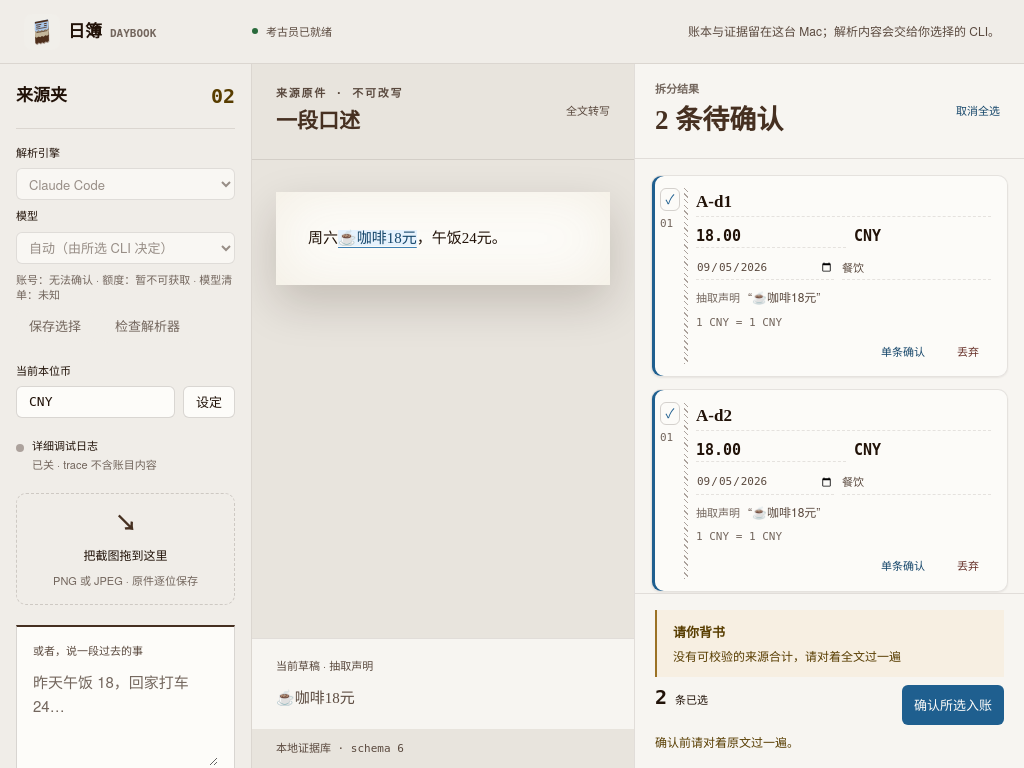
Test: 编辑失败保留输入及未保存提示，阻止确认；恢复不发写命令
The width and height of the screenshot is (1024, 768).
Replace the text in the 1st field showing "A-d1" with "尚未保存的商户": x=844, y=202 [696, 188, 991, 217]
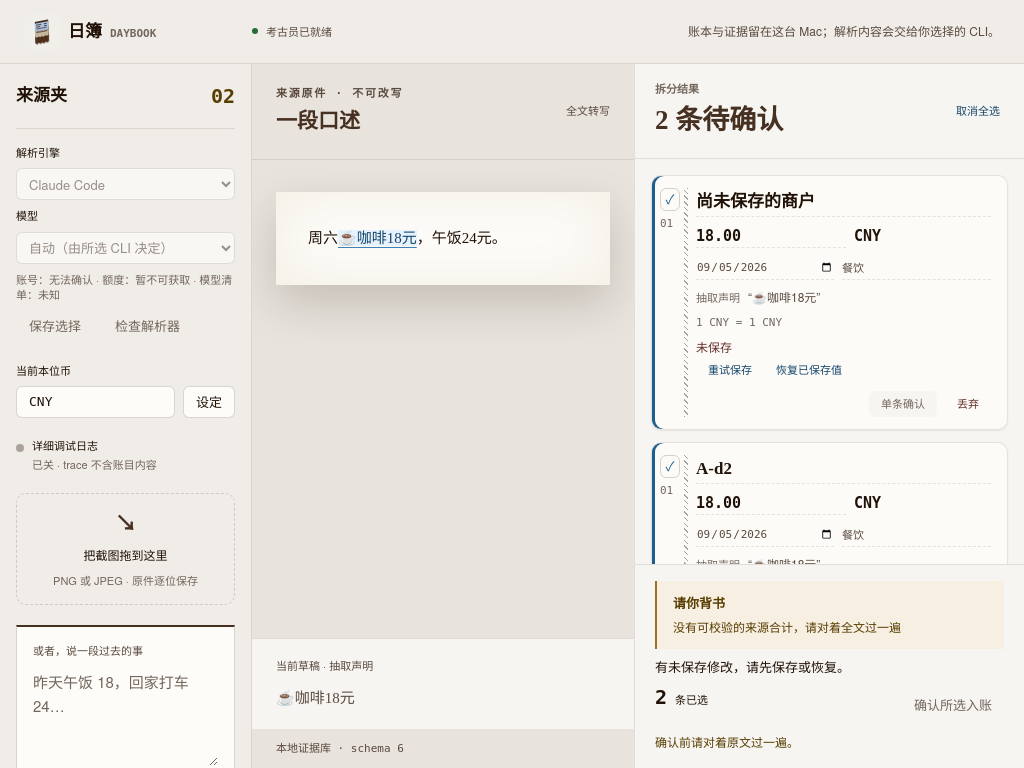
Leave the 1st field showing "A-d1", box [696, 188, 991, 217]
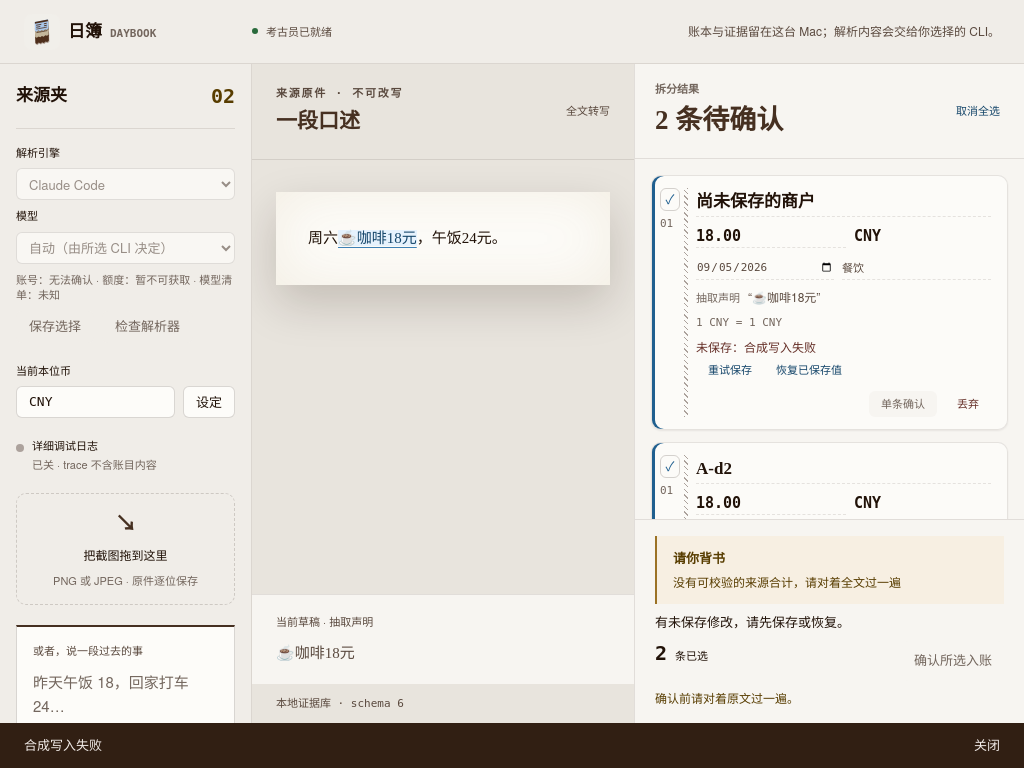
Expected: the button "确认所选入账" is disabled, [902, 641, 1004, 681]
Expected: the text "未保存：合成写入失败" is shown, [696, 338, 816, 356]
Click the button "恢复已保存值": x=809, y=370 [764, 357, 854, 383]
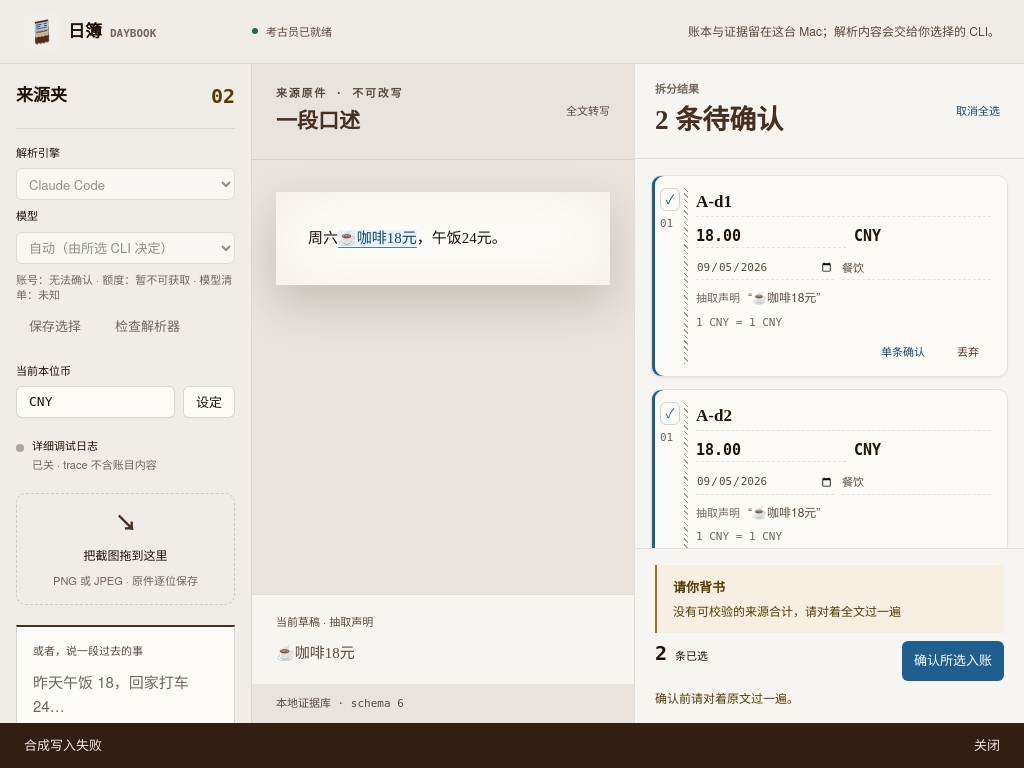
Expected: the 1st field showing "A-d1" holds "A-d1", [696, 188, 991, 217]
